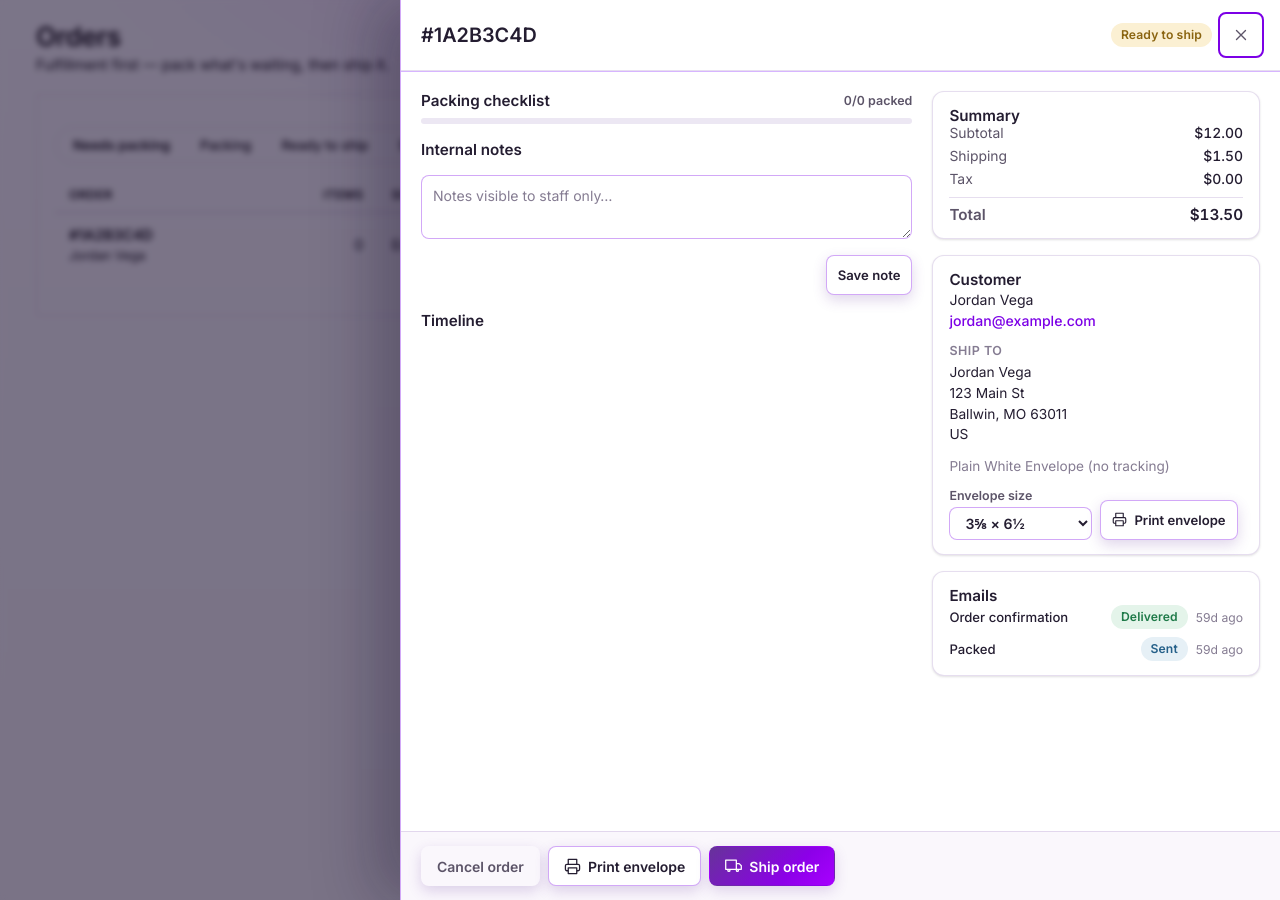
it: printing from an order › prints a PWE envelope in one click
Click the button "Print envelope" next to "Envelope size" at {"x": 1169, "y": 520}, box [1100,500,1238,540]
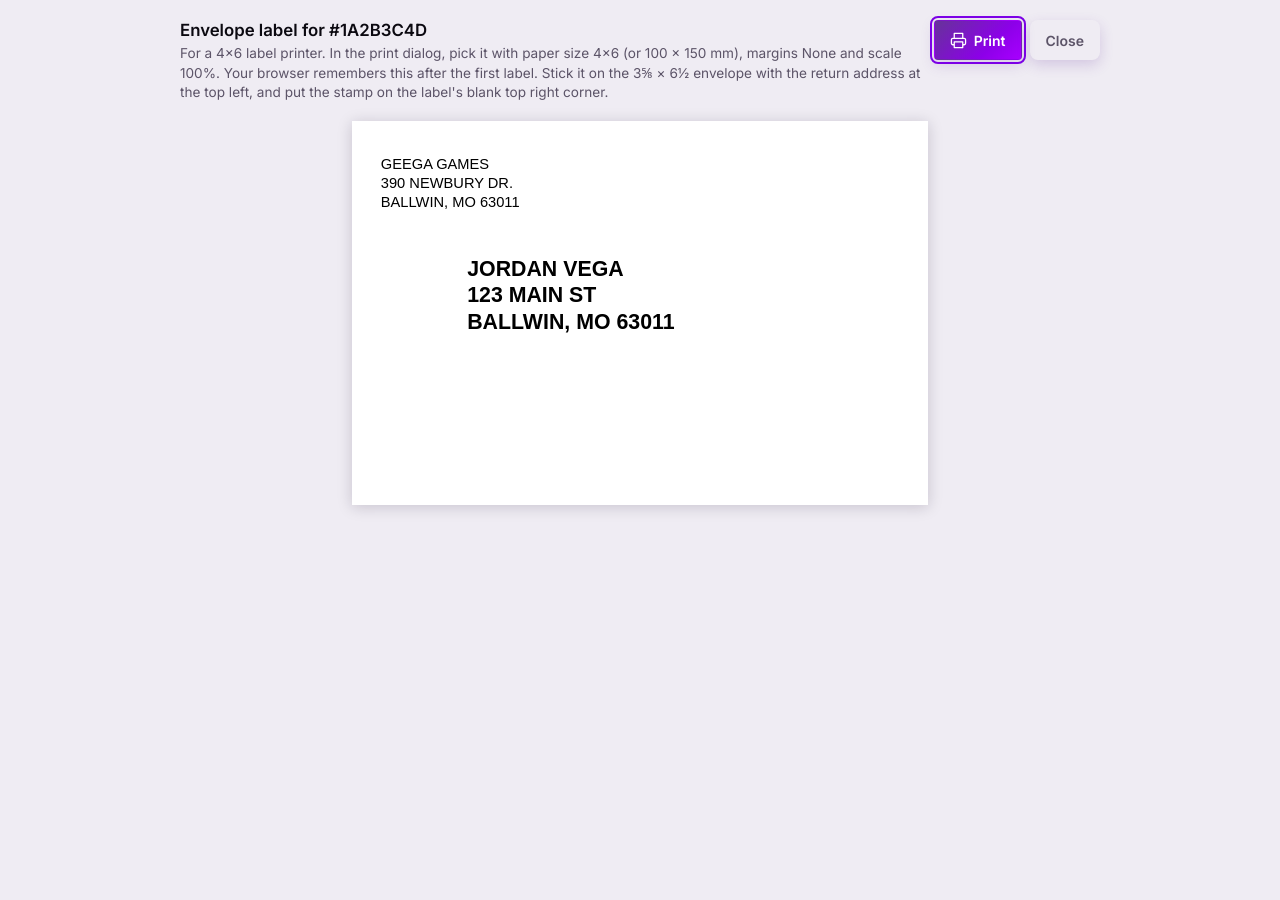
Expected: the dialog "Envelope label for #1A2B3C4D" shows "123 Main St", [467,283,596,307]
Expected: the dialog "Envelope label for #1A2B3C4D" shows "Geega Games", [381,156,489,172]
